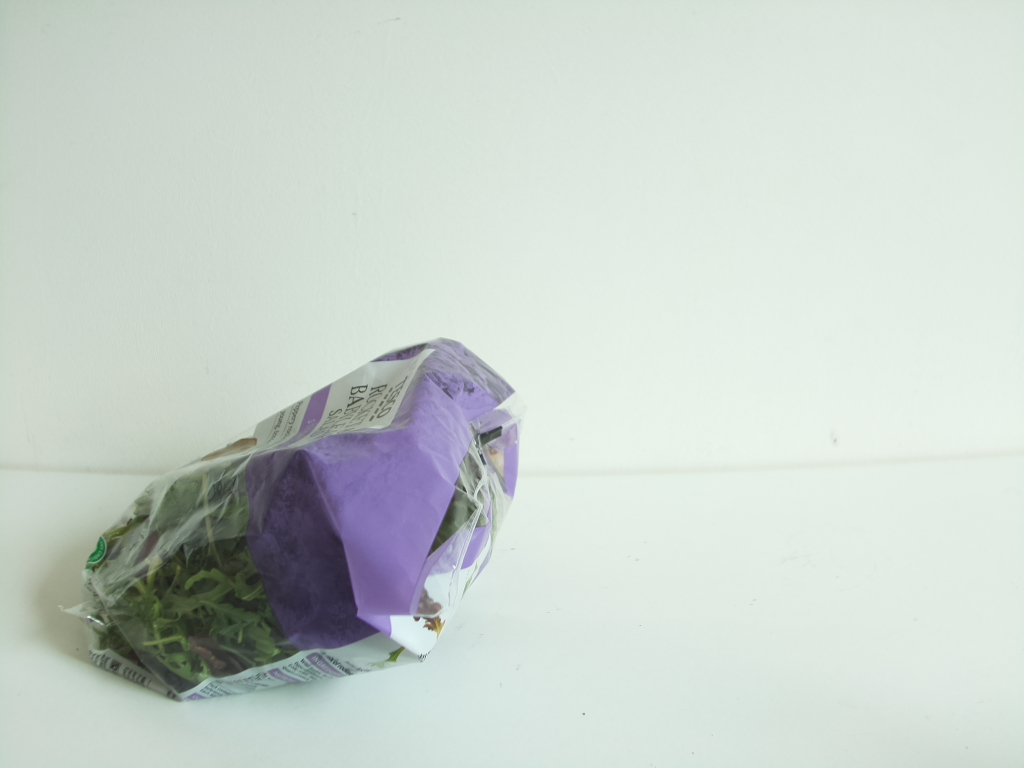salad: (56, 349, 522, 705)
